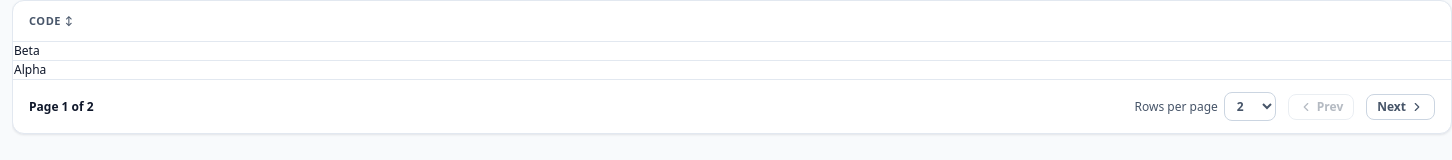
Test: DataTable (client mode) › sorts by a column header, toggling aria-sort
Click the button with test id "sort-code": (51, 21) [29,13,73,29]
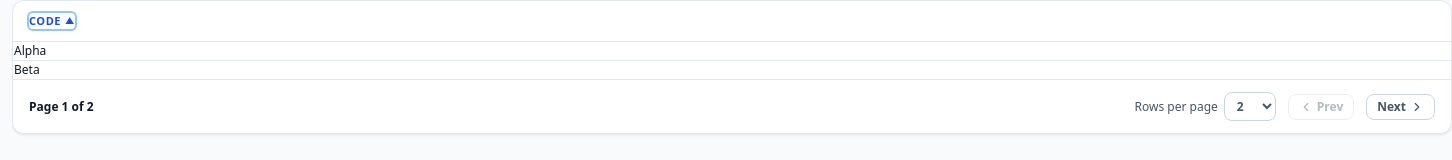
Expected: the row "Alpha" is shown, [13,42,1451,60]
Now the button with test id "sort-code" has attribute aria-sort="ascending"
Click the button with test id "sort-code": (52, 21) [29,13,75,29]
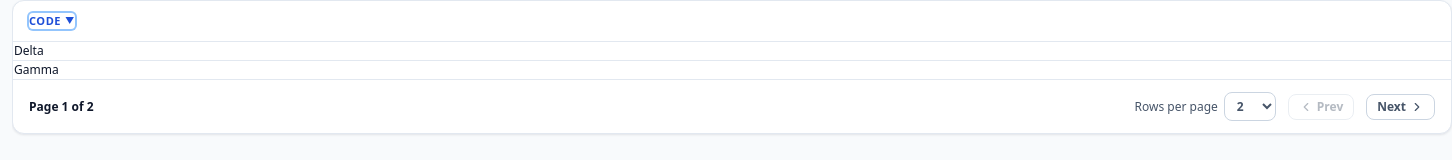
Now the row "Delta" is shown, box [13,42,1451,60]
